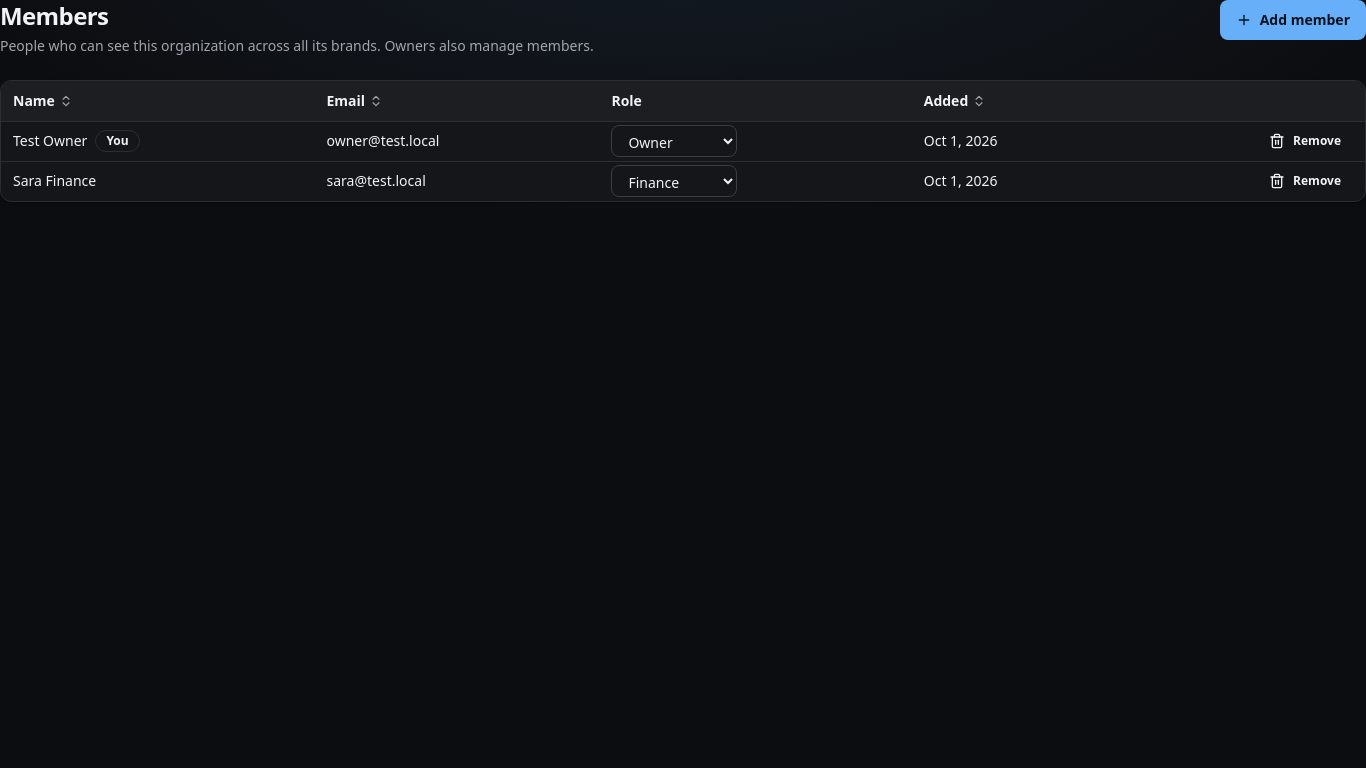
Test: organization members page › asks for confirmation before removing a member
Click the button "Remove " in the row of "Sara Finance". click: click(1305, 181)
box: [1257, 165, 1353, 197]
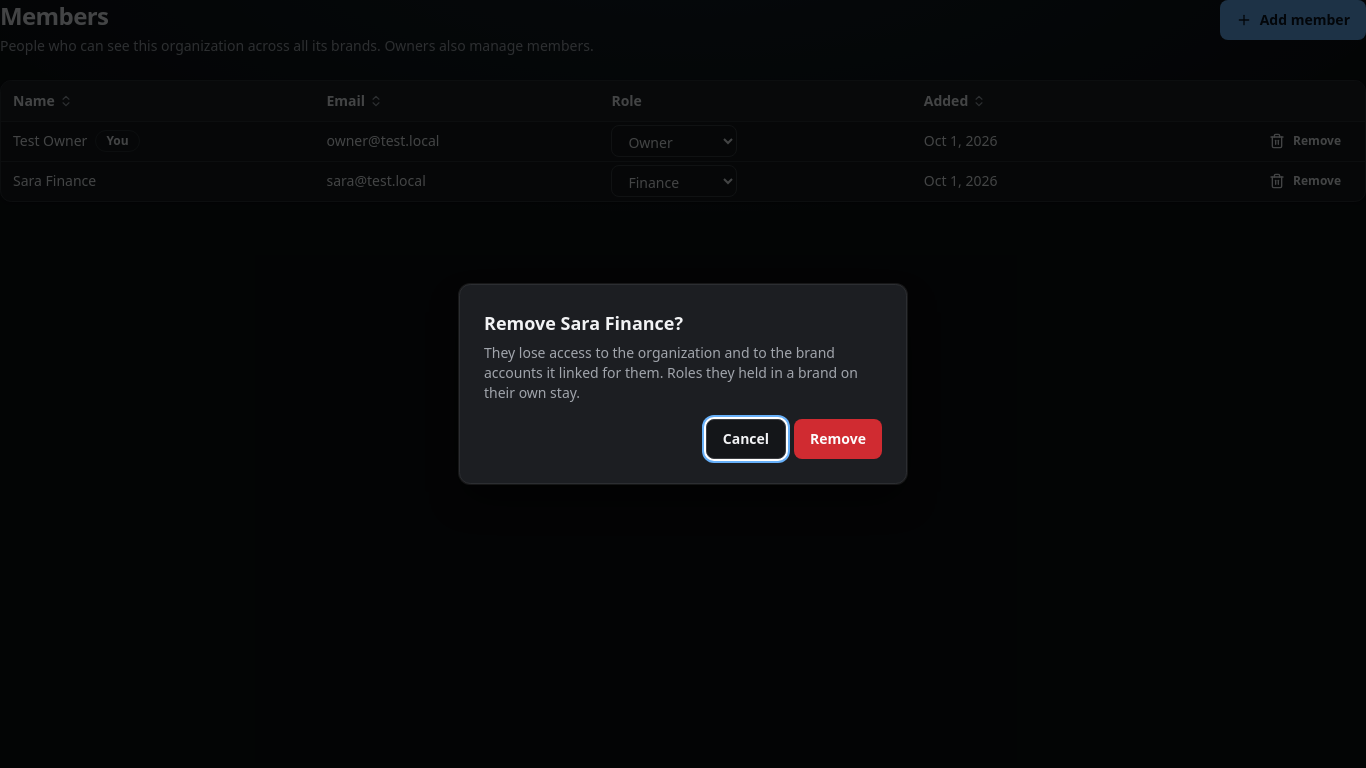
Check: the heading "Remove Sara Finance?" is shown, box [484, 311, 683, 335]
Click the button "Remove". click: click(838, 439)
box: [794, 419, 882, 459]
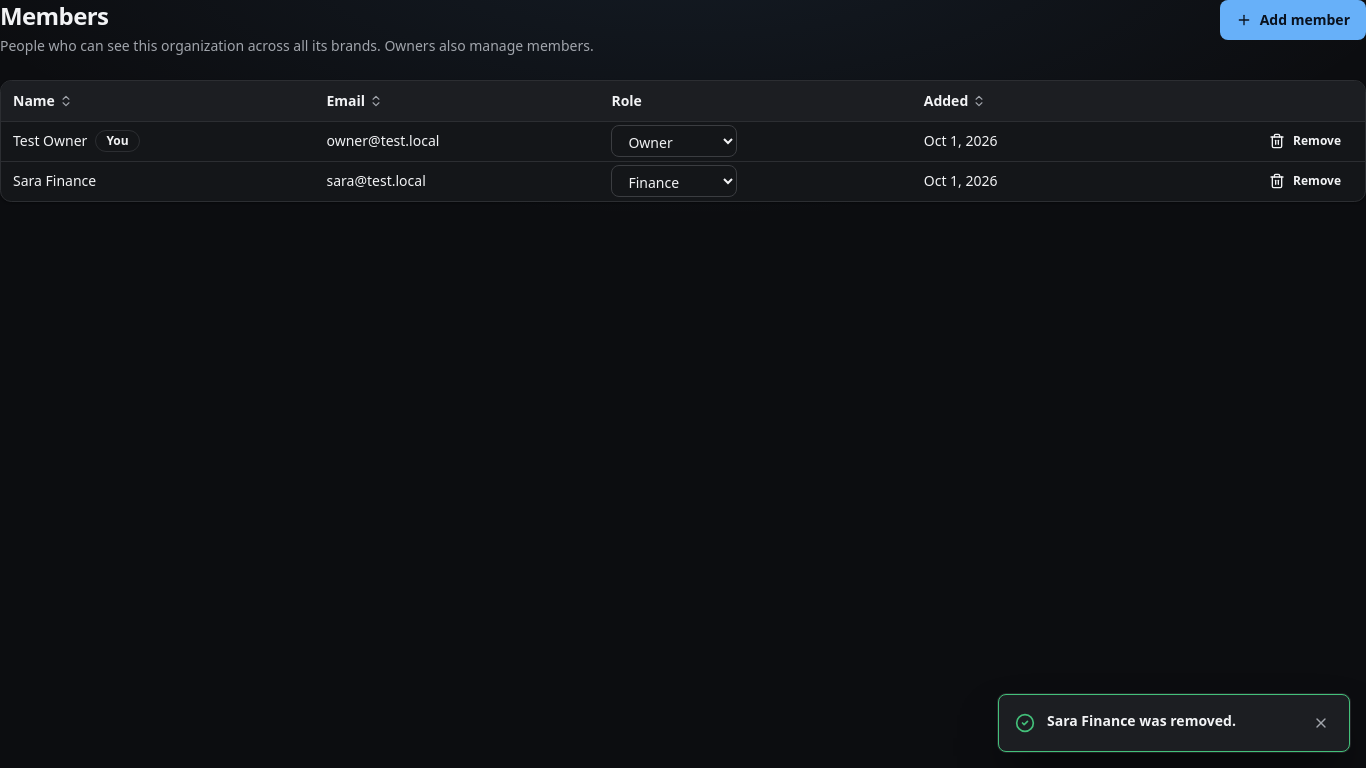
Check: the text "Sara Finance was removed." is shown, box [1047, 711, 1236, 730]
